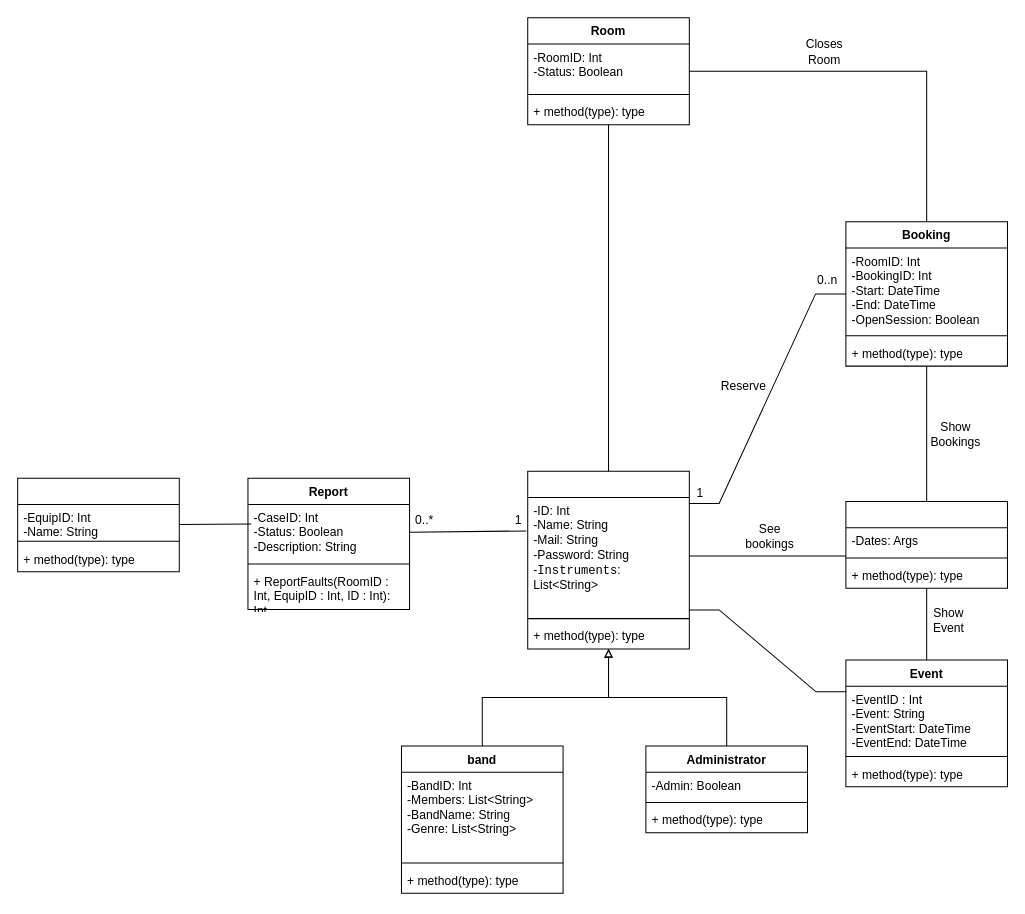
Image size: 1025x914. Some labels were removed from this diagram. Each missing label, with the box of its shape:
Calendar: (845, 500, 1007, 588)
Equipment: (17, 477, 179, 572)
User: (527, 470, 689, 649)
